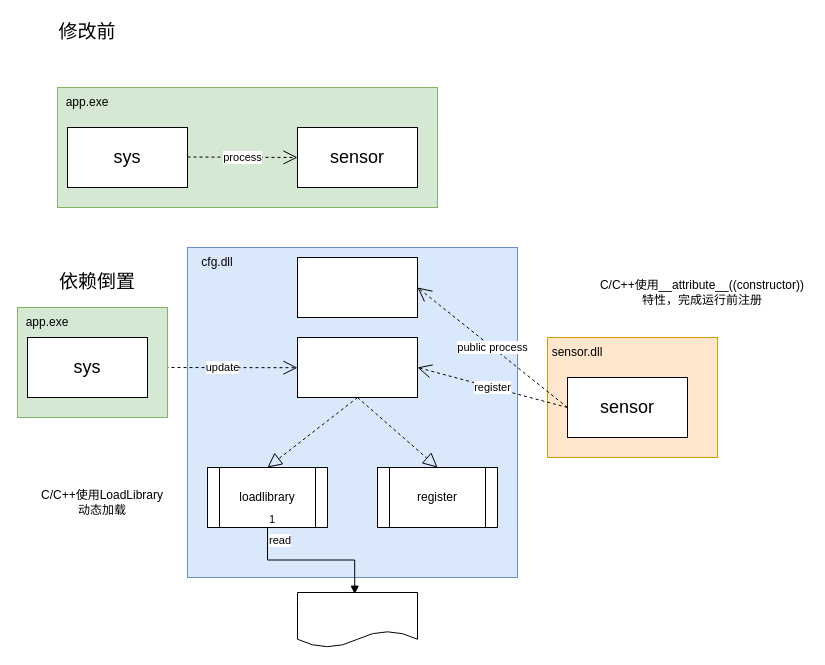
Some shapes in this 825 by 665 pixel diagram are drawn without their labels. Here are the shapes that lost their labels. From the top down, the centre of each, then its label:
At (357,287): "sensor_hal".
At (357,367): "sensor_cfg".
At (357,620): "sensor.cfg".
